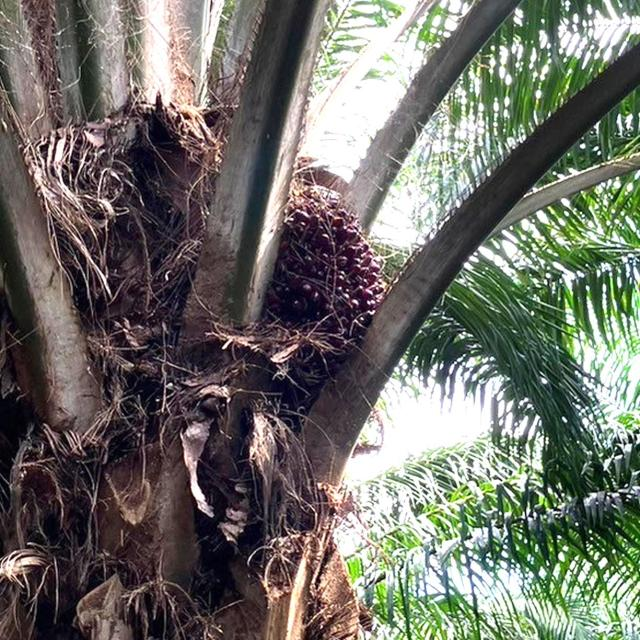ripe: (250, 177, 397, 361)
